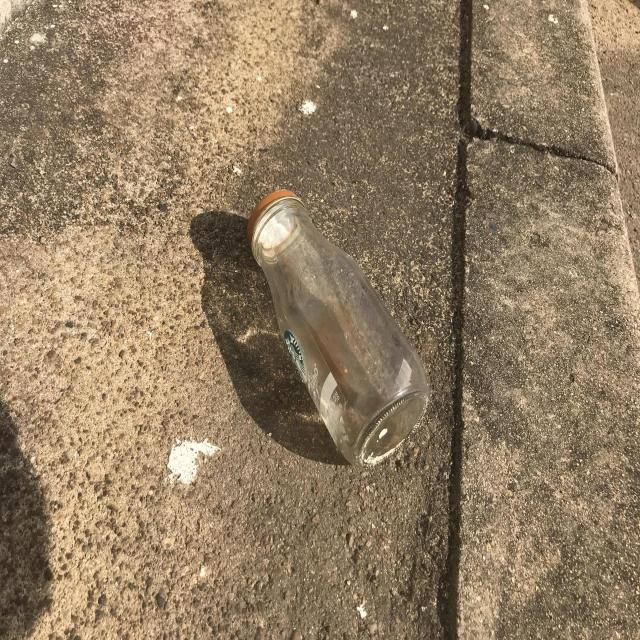glass: (247, 190, 430, 466)
